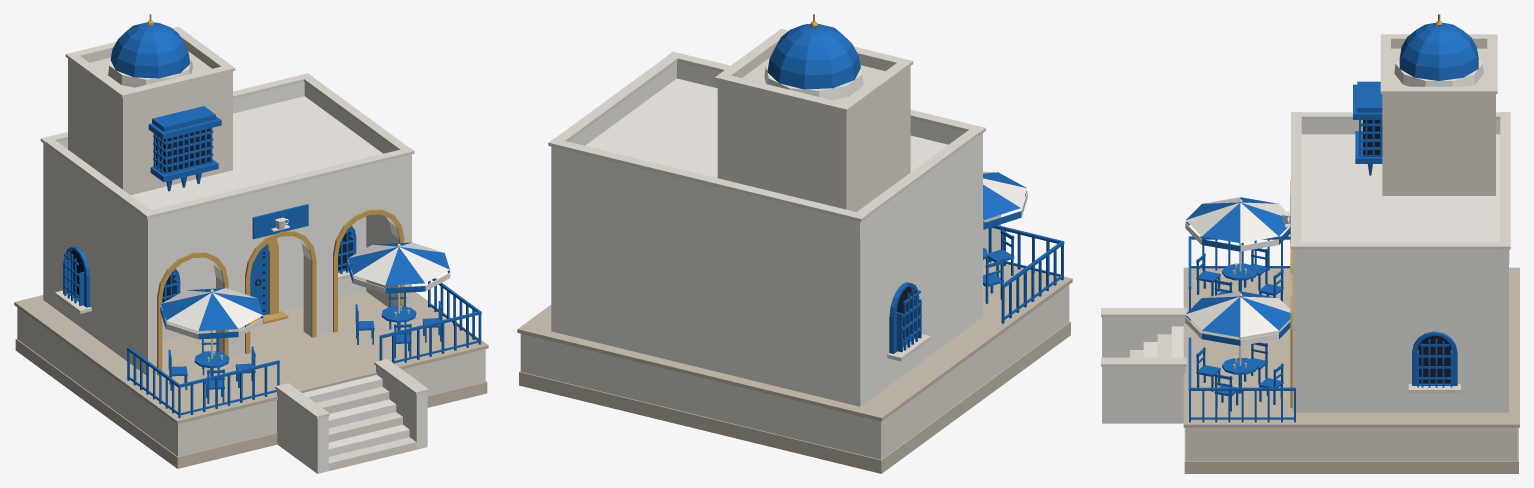
File: SidiBouSaid_Cafe.fbx
The picture shows the model from 3 angles, left to right: view 1: azimuth 30°, elevation 25°; view 2: azimuth 150°, elevation 25°; view 3: azimuth 270°, elevation 25°; orthographic projection. The views are drawn at different scales.
Visible parts, largest first — view 1: SidiBouSaid_Cafe.001; view 2: SidiBouSaid_Cafe.001; view 3: SidiBouSaid_Cafe.001.
Part boxes in pixels (<box>): SidiBouSaid_Cafe.001: <box>14,14,488,473</box>; SidiBouSaid_Cafe.001: <box>517,14,1072,473</box>; SidiBouSaid_Cafe.001: <box>1101,14,1519,473</box>.
Size of the model in its own units: 8.5 by 8.89 by 9.59.
